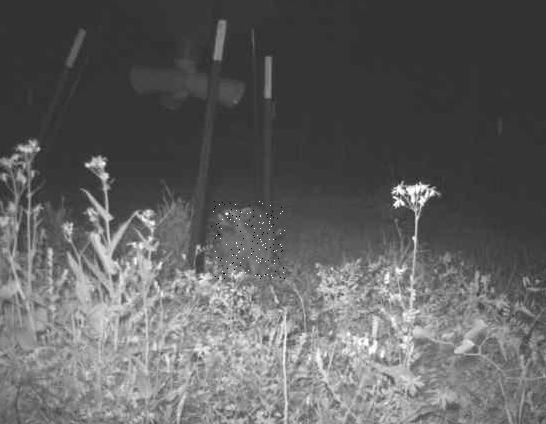Raccoon: (210, 201, 284, 280)
